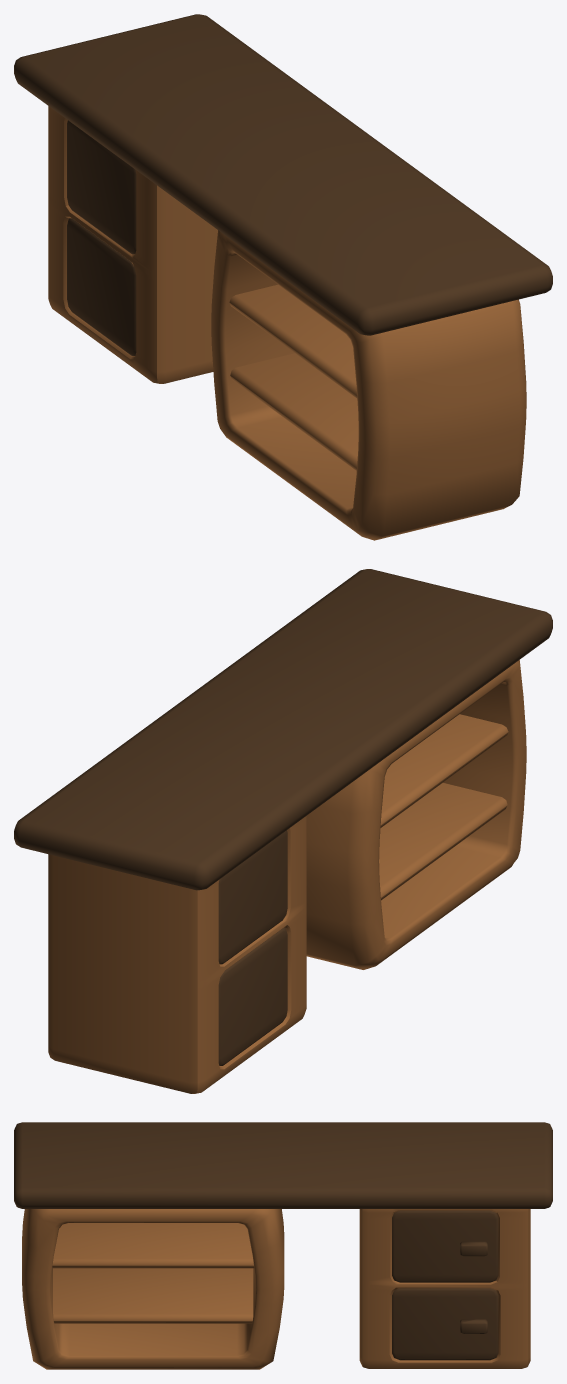
The model's file is Crafting Station.fbx.
The picture shows the model from 3 angles, top to bottom: view 1: azimuth 30°, elevation 25°; view 2: azimuth 150°, elevation 25°; view 3: azimuth 270°, elevation 25°; orthographic projection. The views are drawn at different scales.
Parts seen in each view (by area): view 1: Table, Box, Drawer, Shelf2, Shelf1; view 2: Table, Drawer, Box, Shelf2, Shelf1; view 3: Table, Drawer, Box, Shelf2, Shelf1, Knob.
Boxes of the visible parts, x1=… form: Table: x1=14, y1=14, x2=552, y2=335; Box: x1=211, y1=230, x2=526, y2=540; Drawer: x1=48, y1=106, x2=217, y2=383; Shelf2: x1=230, y1=353, x2=358, y2=470; Shelf1: x1=229, y1=284, x2=357, y2=398; Table: x1=14, y1=569, x2=552, y2=890; Drawer: x1=48, y1=816, x2=306, y2=1093; Box: x1=306, y1=660, x2=526, y2=969; Shelf2: x1=379, y1=783, x2=507, y2=900; Shelf1: x1=380, y1=714, x2=508, y2=827; Table: x1=14, y1=1122, x2=552, y2=1208; Drawer: x1=359, y1=1209, x2=530, y2=1368; Box: x1=22, y1=1209, x2=284, y2=1369; Shelf2: x1=53, y1=1268, x2=253, y2=1323; Shelf1: x1=52, y1=1223, x2=254, y2=1268; Knob: x1=460, y1=1241, x2=487, y2=1333.
Bounding box in the file's own units: 200 × 246 × 631.
